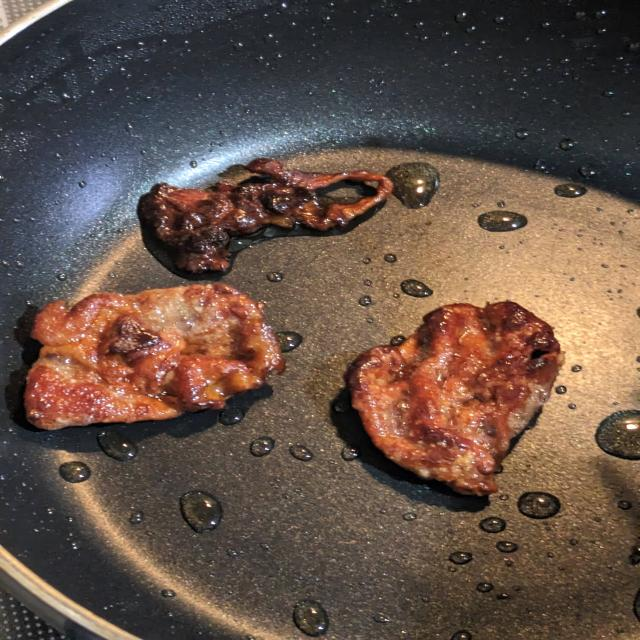overcooked pork: (336, 298, 576, 507), (13, 276, 304, 439), (119, 152, 406, 288)
